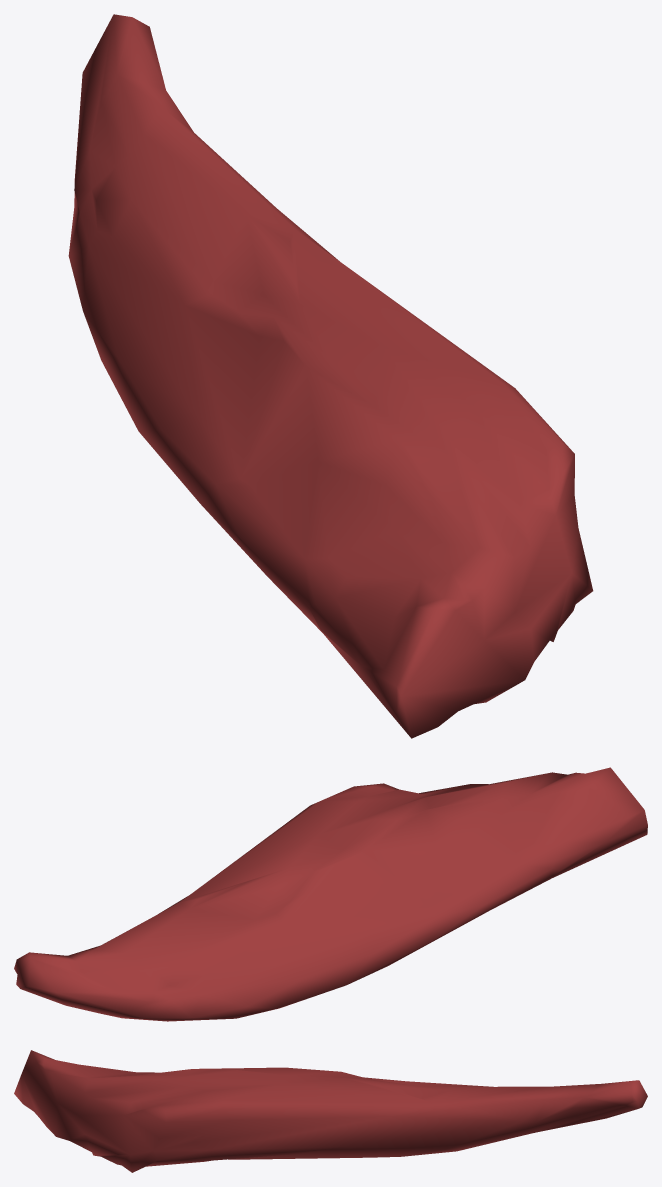
Rendered from anterior-belly-of-digastric-muscle-l.glb.
3 renders of one model, top to bottom at view 1: azimuth 30°, elevation 25°; view 2: azimuth 150°, elevation 25°; view 3: azimuth 270°, elevation 25°, orthographic. The views are drawn at different scales.
Parts seen in each view (by area): view 1: Anterior belly of digastric muscle.l; view 2: Anterior belly of digastric muscle.l; view 3: Anterior belly of digastric muscle.l.
Boxes of the visible parts, box(x1,y1,x2,y2) form: Anterior belly of digastric muscle.l: box(68, 14, 593, 738); Anterior belly of digastric muscle.l: box(14, 767, 647, 1021); Anterior belly of digastric muscle.l: box(14, 1050, 647, 1172).
Size of the model in its own units: 0.012 by 0.00633 by 0.0358.
